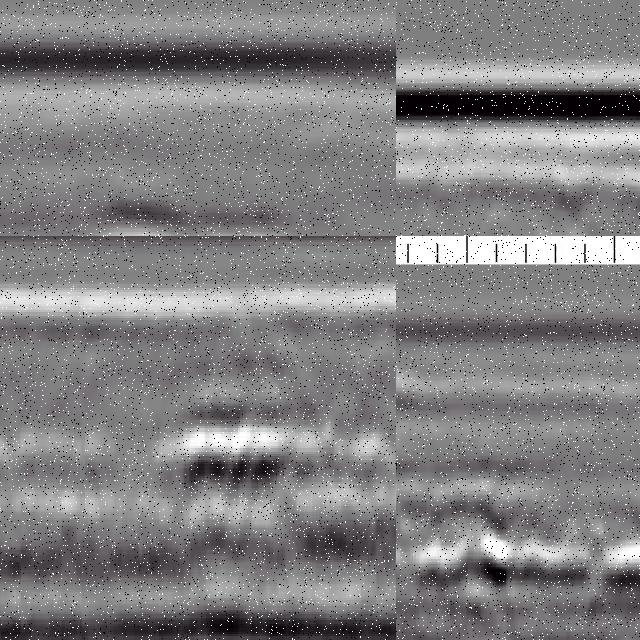loose: (420, 495, 640, 640), (162, 379, 307, 523), (82, 177, 376, 237)
